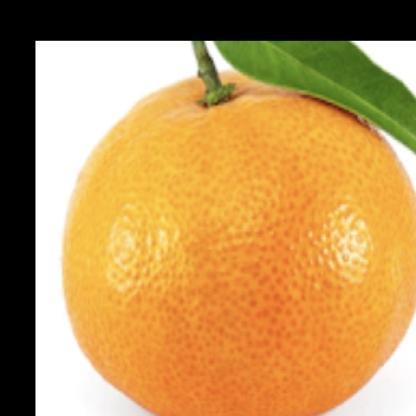rotten: (63, 59, 411, 416)
